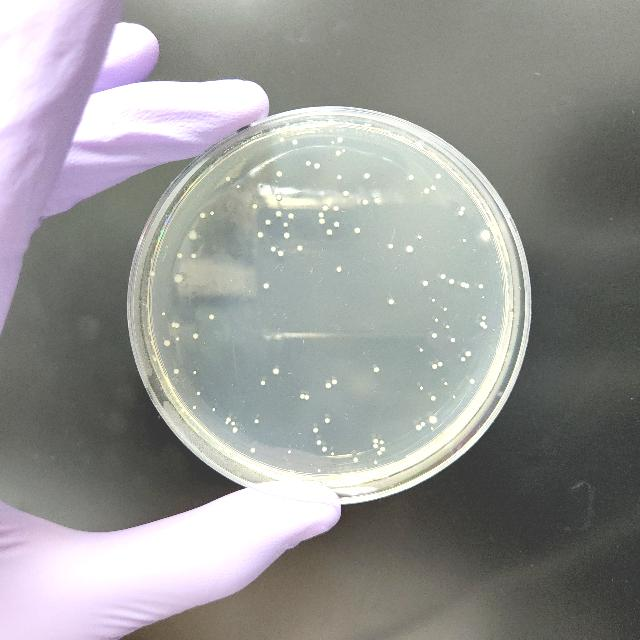colony: (187, 228, 197, 240), (428, 414, 438, 424), (174, 274, 183, 282), (406, 245, 414, 253), (262, 283, 270, 289), (276, 170, 282, 178), (364, 172, 370, 180), (416, 424, 422, 432), (464, 351, 472, 357), (435, 172, 441, 180), (163, 340, 170, 346), (439, 273, 446, 279), (200, 212, 206, 218), (225, 176, 231, 182), (265, 219, 271, 225), (258, 232, 264, 238), (270, 246, 276, 252), (278, 250, 284, 256), (284, 233, 290, 239), (288, 213, 294, 219), (276, 211, 282, 217), (150, 271, 156, 277), (193, 333, 199, 339), (273, 368, 279, 374), (276, 194, 282, 200), (315, 163, 321, 169), (335, 150, 341, 156), (343, 190, 349, 196), (362, 199, 368, 205), (374, 197, 380, 203), (333, 206, 339, 212), (322, 205, 328, 211), (318, 212, 324, 218), (319, 218, 325, 224), (334, 221, 340, 227), (327, 229, 333, 235), (354, 227, 360, 233), (292, 139, 298, 145), (336, 266, 342, 272), (232, 427, 238, 433), (224, 448, 230, 454), (250, 447, 256, 453), (300, 394, 306, 400), (373, 367, 379, 373), (388, 299, 394, 305), (321, 446, 327, 452), (313, 427, 319, 433), (324, 418, 330, 424), (380, 446, 386, 452), (420, 421, 426, 427), (432, 364, 438, 370), (431, 333, 437, 339), (423, 280, 429, 286), (460, 281, 466, 287), (464, 283, 470, 289), (458, 210, 464, 216), (408, 174, 414, 180), (210, 210, 214, 216), (252, 204, 258, 208), (298, 245, 302, 251), (284, 222, 288, 228), (178, 252, 182, 258), (210, 314, 214, 320), (172, 322, 176, 328), (176, 323, 180, 329), (261, 380, 265, 386), (174, 368, 178, 374), (260, 164, 266, 168), (306, 160, 310, 166), (338, 137, 342, 143), (338, 174, 342, 180), (255, 418, 259, 424), (231, 420, 235, 426), (304, 396, 310, 400), (326, 382, 330, 388), (388, 244, 394, 248), (316, 440, 322, 444), (354, 456, 358, 462), (378, 450, 382, 456), (374, 438, 378, 444), (430, 396, 436, 400), (470, 378, 474, 384), (460, 357, 466, 361), (450, 338, 456, 342), (450, 279, 454, 285), (478, 284, 484, 288), (480, 322, 486, 326), (496, 348, 500, 354), (432, 185, 436, 191), (424, 188, 428, 194), (328, 119, 332, 125), (290, 124, 296, 128), (236, 184, 240, 188), (192, 254, 196, 258), (176, 337, 180, 341), (181, 408, 185, 412), (153, 357, 157, 361), (280, 138, 284, 142), (227, 418, 231, 422), (332, 380, 336, 384), (317, 468, 321, 472), (374, 460, 378, 464), (374, 444, 378, 448), (380, 440, 384, 444), (444, 381, 448, 385), (438, 362, 442, 366), (419, 348, 423, 352), (452, 395, 456, 399), (418, 235, 422, 239), (482, 316, 486, 320), (483, 325, 487, 329), (461, 206, 465, 210), (462, 239, 466, 243), (284, 125, 288, 129), (300, 121, 304, 125), (276, 127, 280, 131), (400, 135, 404, 139), (162, 312, 165, 316), (198, 390, 200, 396), (192, 406, 195, 410), (288, 451, 292, 454), (431, 427, 434, 431), (444, 306, 446, 312), (366, 124, 372, 126), (194, 370, 196, 374), (332, 140, 334, 144), (342, 150, 346, 152), (226, 420, 228, 424), (332, 452, 334, 456), (420, 386, 422, 390), (436, 318, 438, 322), (432, 298, 434, 302), (496, 260, 498, 264), (286, 123, 290, 125), (212, 408, 215, 410), (446, 326, 449, 328), (483, 296, 485, 298), (294, 122, 296, 124)
